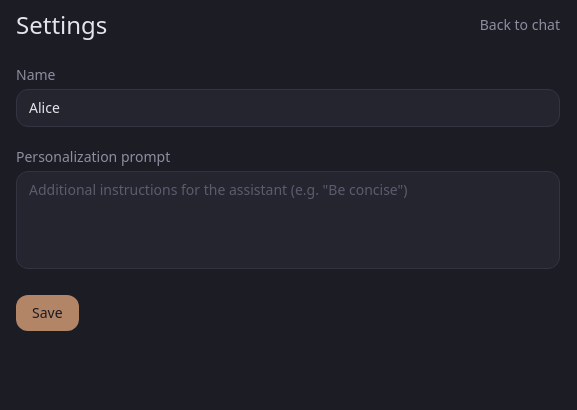
it: SettingsForm — saving › shows error feedback when save fails
This screenshot has width=577, height=410.
Click the button "Save". click: (47, 313)
box: [16, 295, 79, 331]
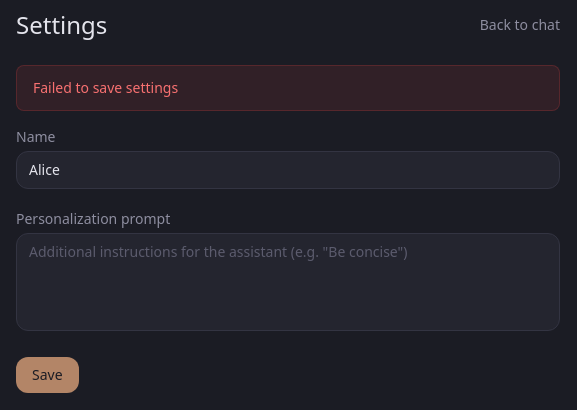
Check: the message "Failed to save settings" is shown, box [16, 65, 560, 111]
